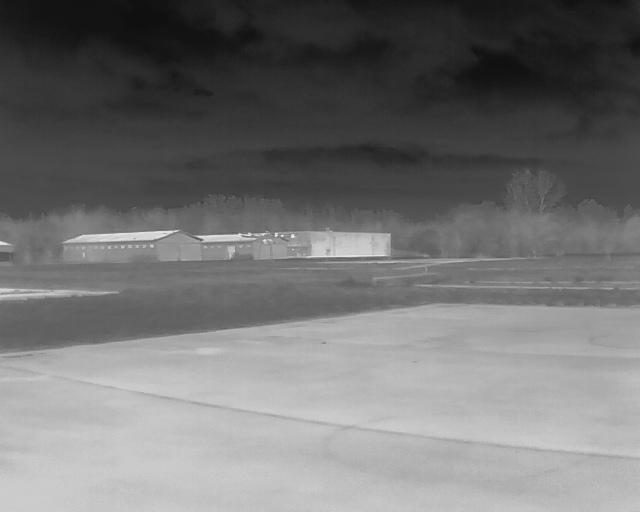drone: (234, 227, 303, 262)
